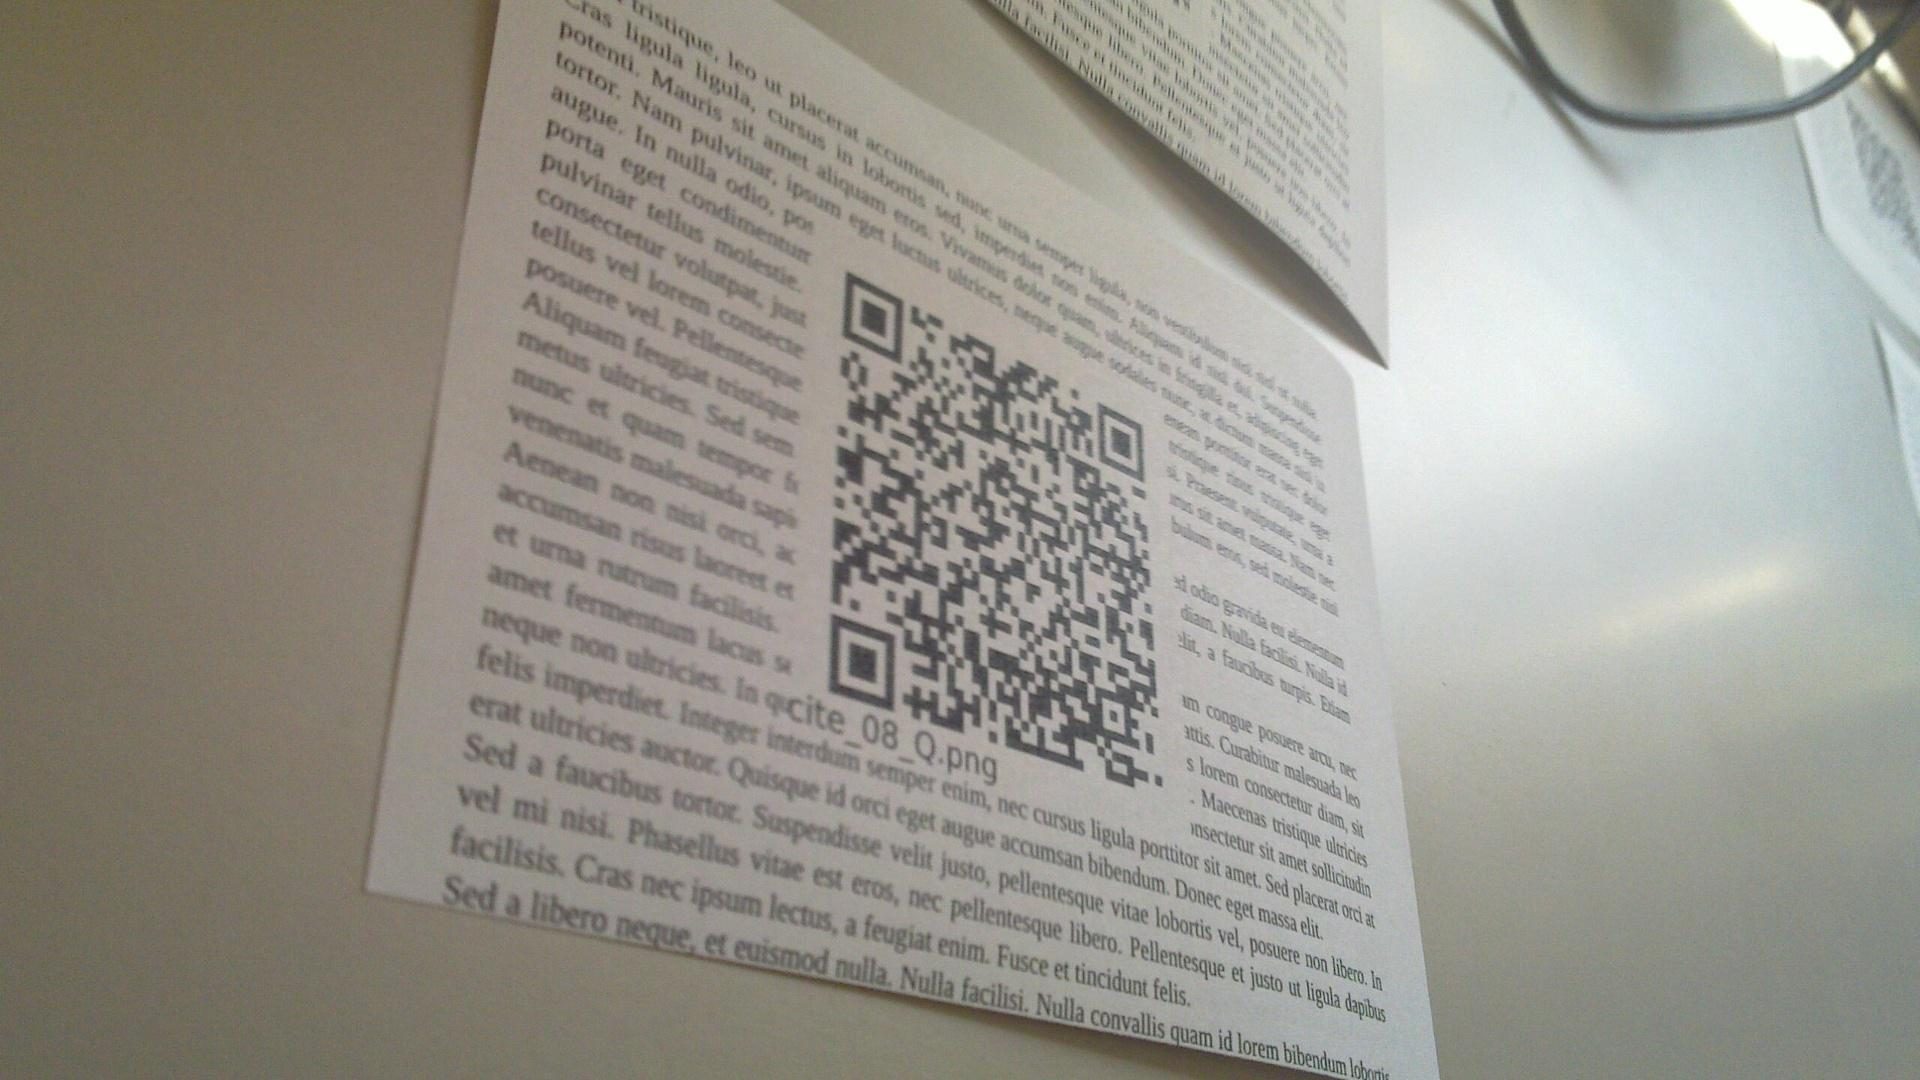Finder pattern: (825, 609, 899, 713), (840, 265, 910, 367), (1092, 396, 1149, 483)
